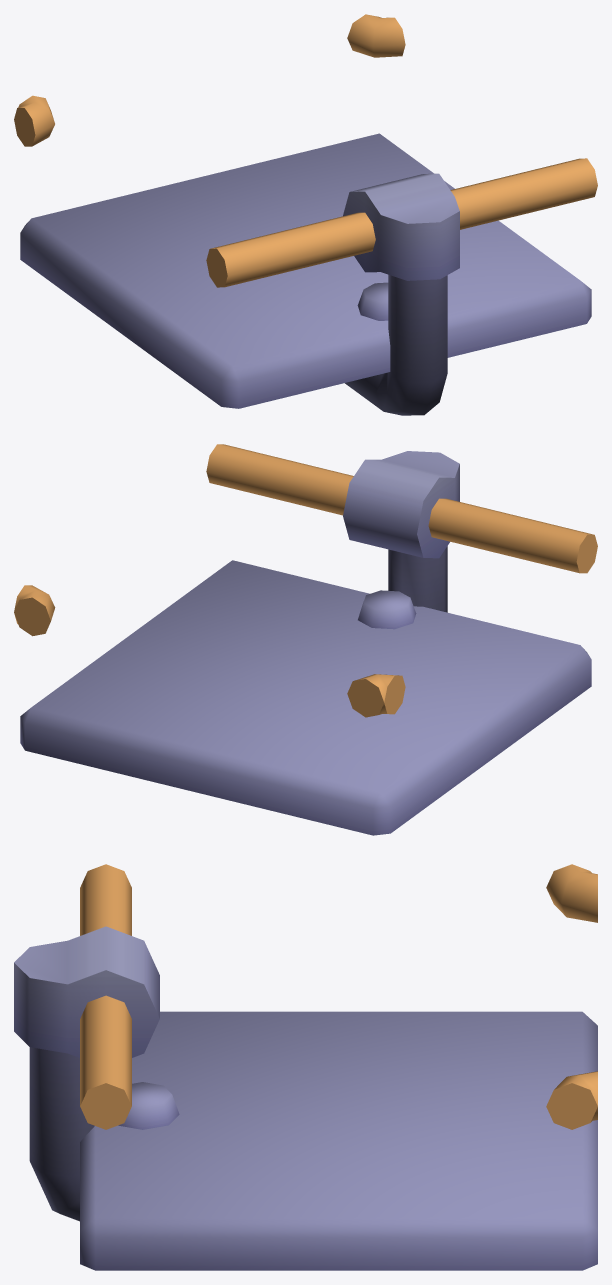
The model's file is kenney-factory-catwalk-junction.glb.
3 renders of one model, top to bottom at view 1: azimuth 30°, elevation 25°; view 2: azimuth 150°, elevation 25°; view 3: azimuth 270°, elevation 25°, orthographic. The views are drawn at different scales.
Parts seen in each view (by area): view 1: catwalk-junction; view 2: catwalk-junction; view 3: catwalk-junction.
Boxes of the visible parts, x1,y1,x2,y2 form: catwalk-junction: [14, 14, 597, 415]; catwalk-junction: [14, 444, 597, 835]; catwalk-junction: [14, 864, 597, 1270].
Size of the model in its own units: 1 by 0.6014 by 1.13.
Materials: 1 (1 with a texture image).
